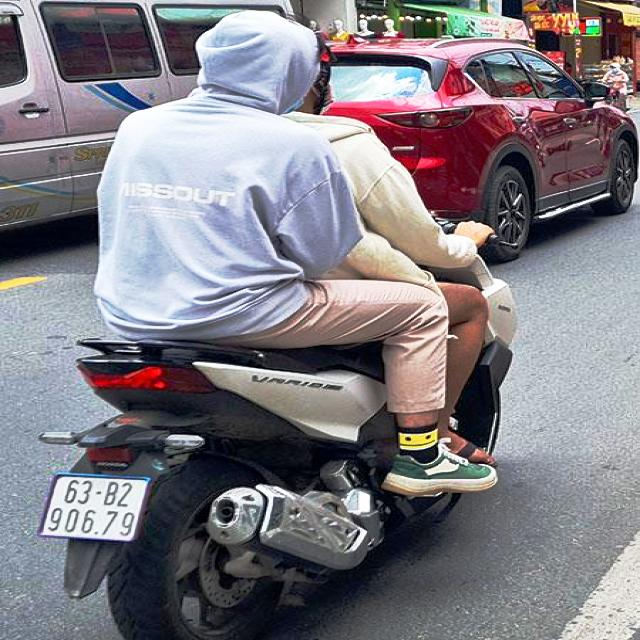license_plate: (32, 473, 151, 545)
